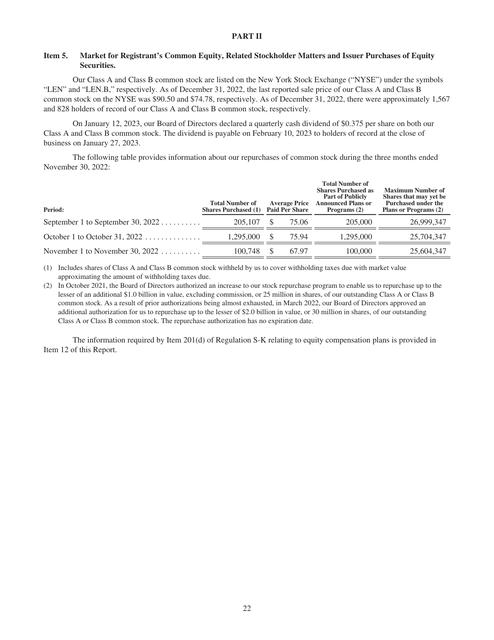box: (40, 179, 451, 261)
